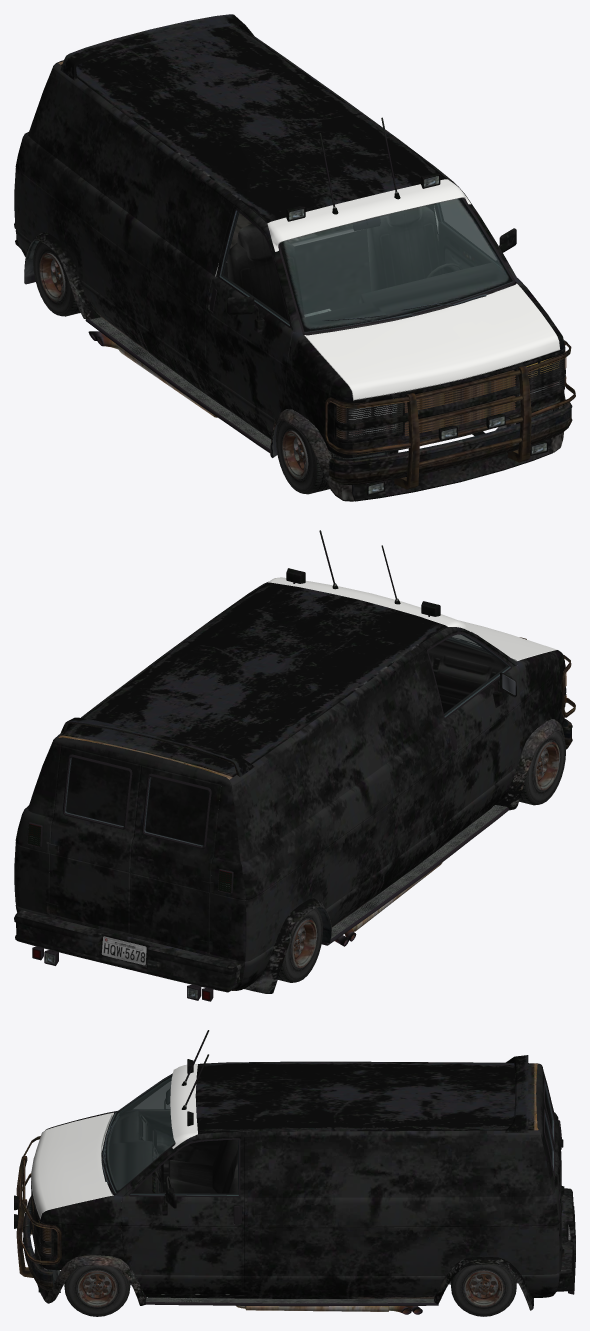
File: carro-gang-burrito.glb
The picture shows the model from 3 angles, top to bottom: view 1: azimuth 30°, elevation 25°; view 2: azimuth 150°, elevation 25°; view 3: azimuth 270°, elevation 25°; orthographic projection. The views are drawn at different scales.
Parts seen in each view (by area): view 1: body, wheel_FR, wheel_RR; view 2: body, wheel_FR, wheel_RR; view 3: body, wheel_RL, wheel_FL.
Part boxes in pixels (x1,y1,x2,y2): body: [14, 14, 575, 501]; wheel_FR: [276, 418, 344, 494]; wheel_RR: [33, 242, 80, 316]; body: [14, 530, 575, 1001]; wheel_FR: [519, 728, 565, 805]; wheel_RR: [278, 908, 323, 982]; body: [14, 1030, 575, 1314]; wheel_RL: [451, 1264, 516, 1316]; wheel_FL: [64, 1259, 130, 1316].
Bounding box in the file's own units: 2.62 × 2.48 × 5.55.
Materials: 15 (10 with a texture image).
